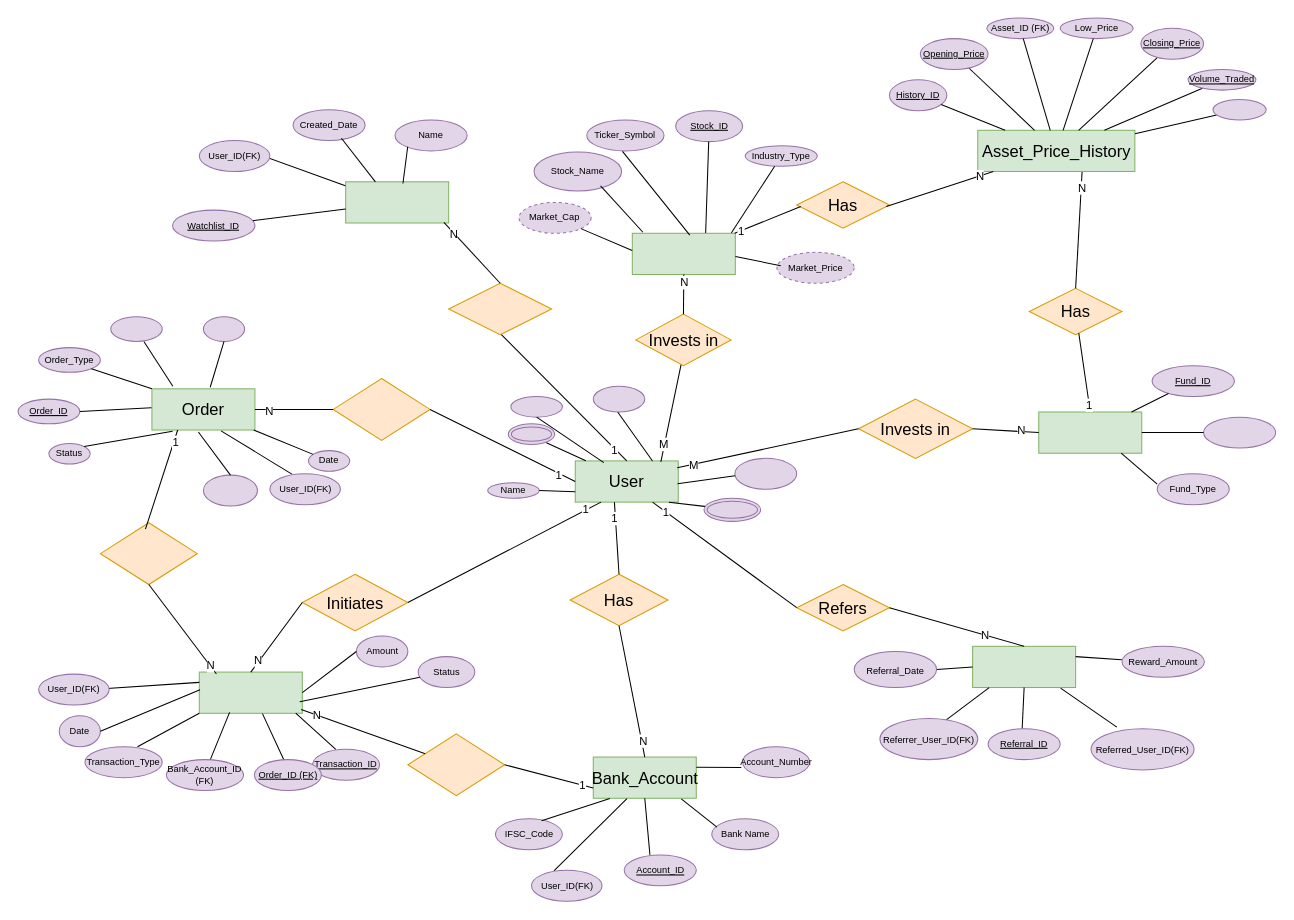
The diagram is 1294 pixels wide and 920 high, and some of its shapes have lost their labels. Here are the shapes that lost their labels. From the top down, the centre of each, then its label:
[1239,109]: High_Price
[397,202]: Watchlist
[683,253]: Stock
[136,328]: Quantity
[223,328]: Price
[500,308]: Adds to
[381,408]: Places
[536,406]: User_ID
[618,398]: DOB
[531,433]: Phone
[1090,432]: Mutual_Fund
[1239,432]: Fund_Name
[230,490]: Timestamp
[765,473]: PAN_No
[732,509]: Email
[148,553]: Generates
[1024,666]: Referral
[250,692]: Transaction
[456,764]: Procecsses
